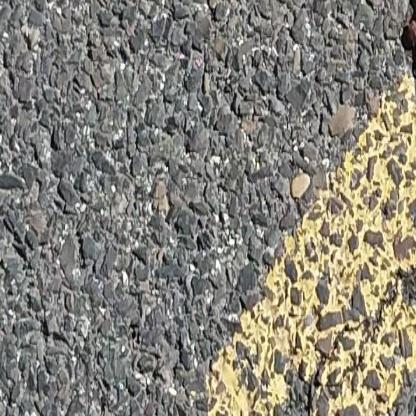Cracks: (301, 254, 416, 416), (396, 0, 416, 151), (236, 404, 248, 416)
